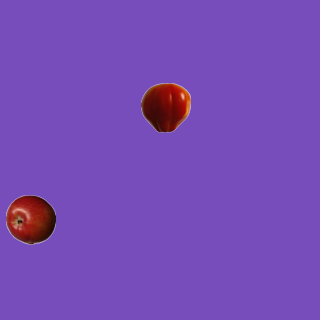Apple Braeburn: (5, 194, 55, 244)
Tomato 1: (140, 82, 190, 132)
